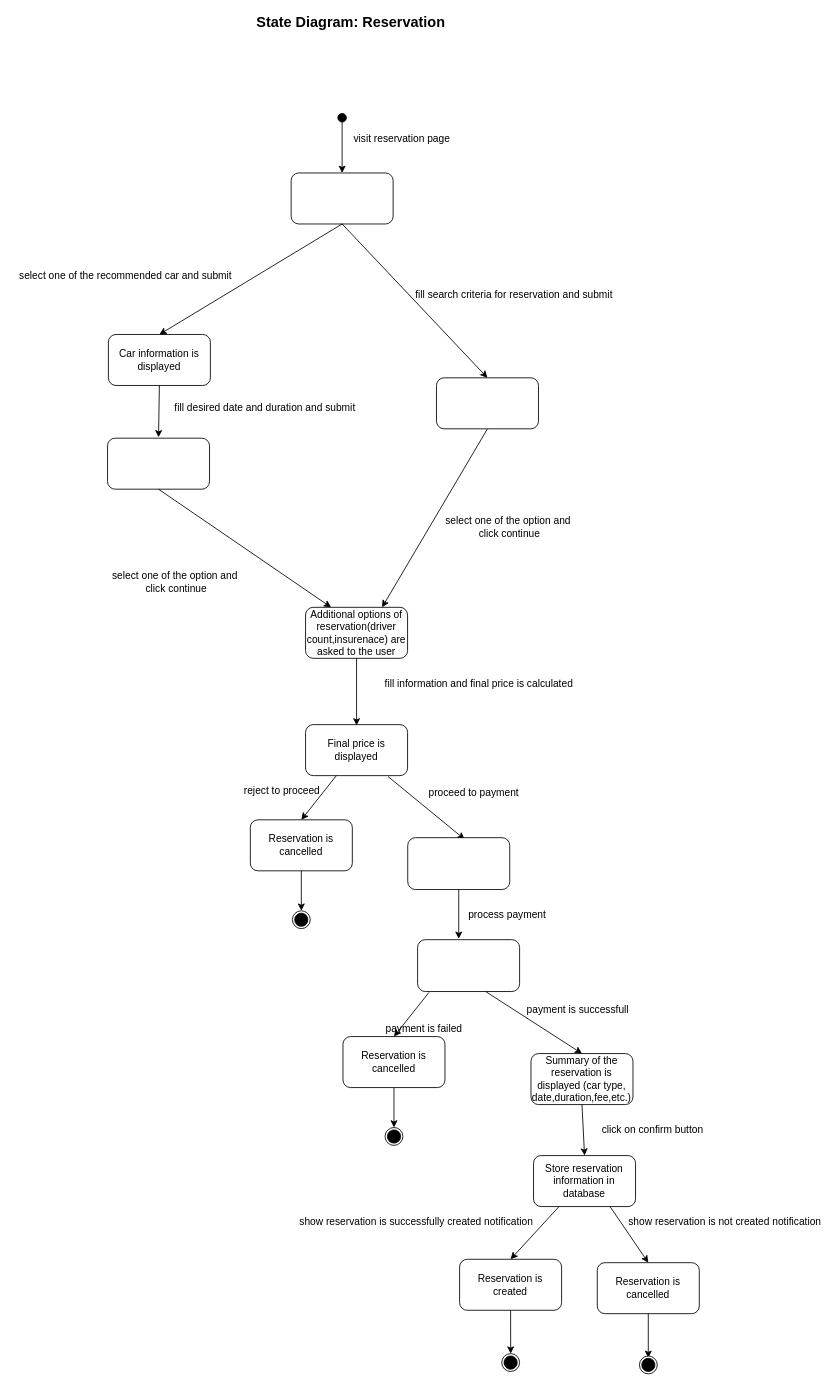
The diagram is 840 pixels wide and 1389 high, and some of its shapes have lost their labels. The centre of each missing label's shape, as x and y in pixels:
"Available cars are listed" belongs at (487,403).
"Filtering results are displayed" belongs at (158,463).
"Payment initiatad" belongs at (458,863).
"payment result notification is sent to the user" belongs at (468,965).
"Reservation initiated" belongs at (341,198).
